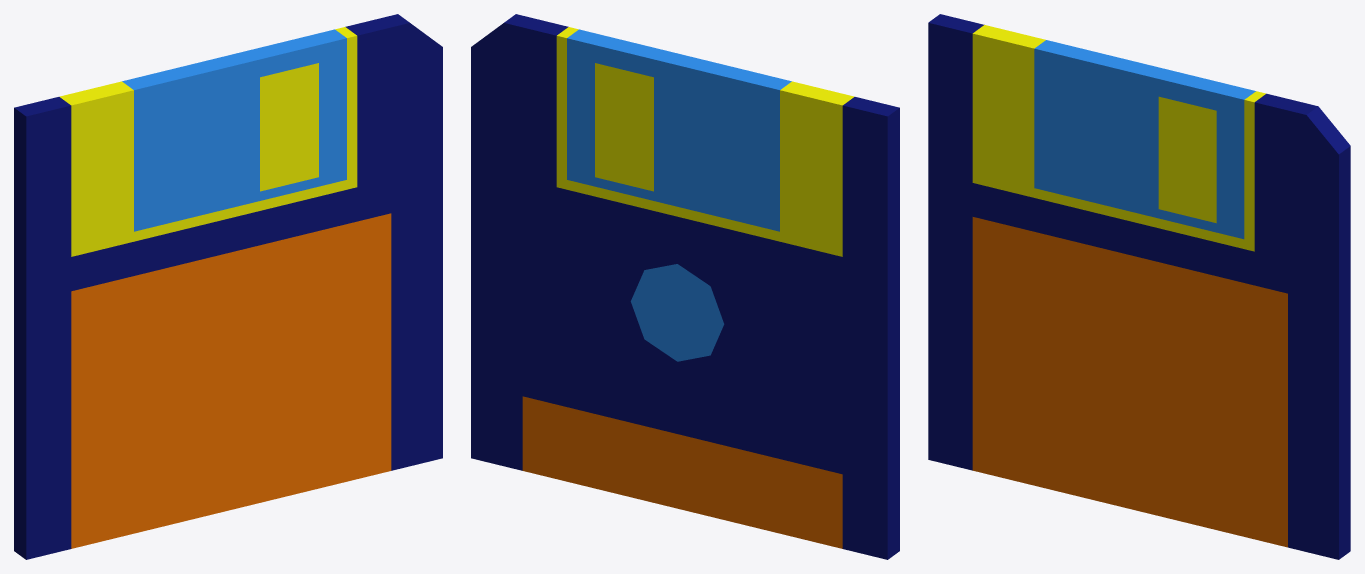
File: floppy_marineyellow.FBX
The picture shows the model from 3 angles, left to right: view 1: azimuth 30°, elevation 25°; view 2: azimuth 150°, elevation 25°; view 3: azimuth 330°, elevation 25°; orthographic projection.
Visible parts, largest first — view 1: floppy_marineyellow; view 2: floppy_marineyellow; view 3: floppy_marineyellow.
Part boxes in pixels (x1,y1,x2,y2): floppy_marineyellow: (14, 14, 442, 559); floppy_marineyellow: (471, 14, 899, 559); floppy_marineyellow: (928, 14, 1350, 559).
Size of the model in its own units: 54.75 by 55.69 by 2.75.
